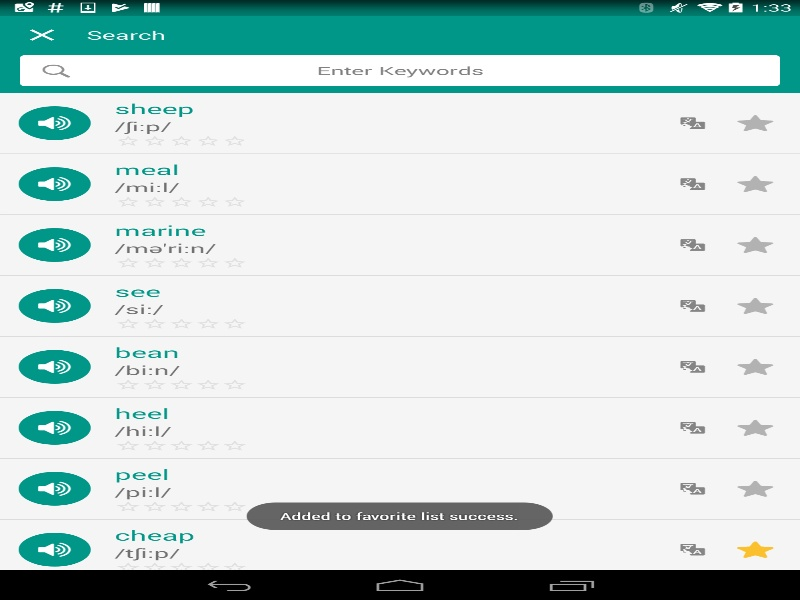Button: (10, 20, 73, 49), (661, 108, 724, 137), (661, 169, 724, 198), (661, 230, 724, 259), (661, 291, 724, 320), (661, 352, 724, 381), (661, 413, 724, 442), (661, 474, 724, 503), (661, 535, 724, 564)
Input: (18, 54, 781, 86)
